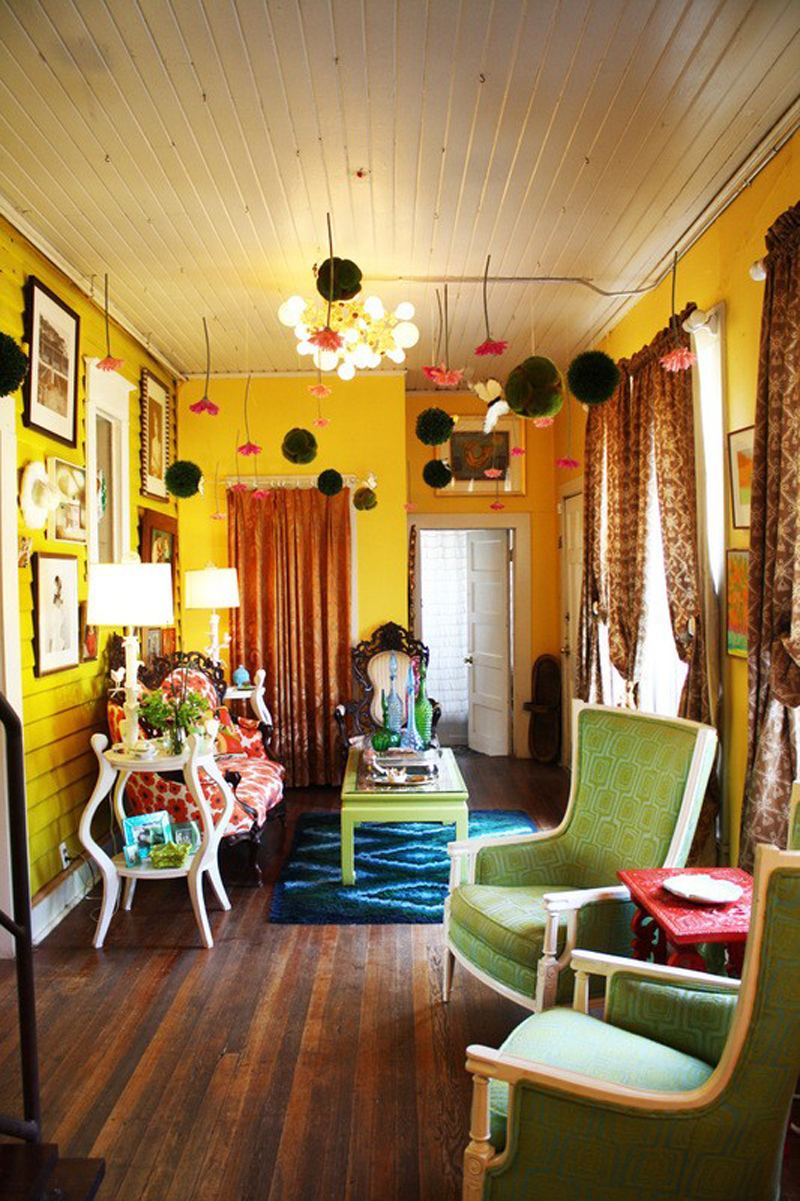hijau: (473, 954, 798, 1189), (412, 670, 438, 738)
hitam: (565, 350, 623, 397), (1, 338, 24, 399), (165, 462, 199, 502), (279, 431, 316, 466)
merah: (621, 864, 753, 944)
putih: (80, 568, 182, 630), (182, 570, 232, 612)
